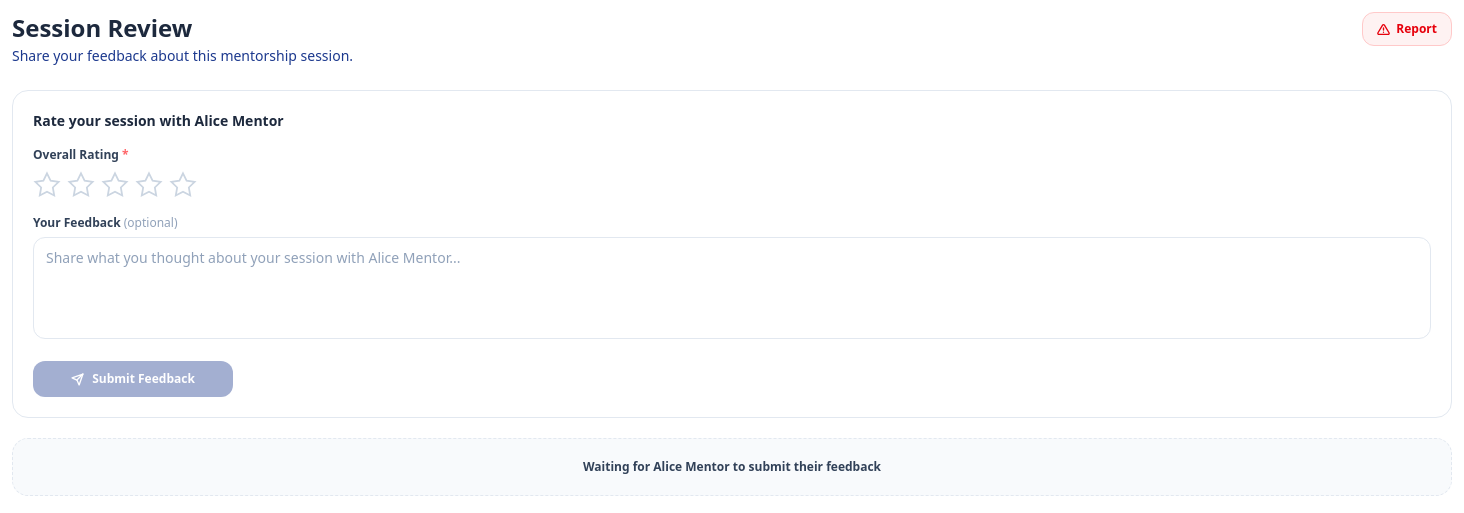
Test case: SharedReportTab Component Suite › Interactive Feedback Form Submissions › should submit user parameters cleanly and substitute elements with success banners
Click the 6th button. click: x=183, y=185
box: [169,171,197,199]
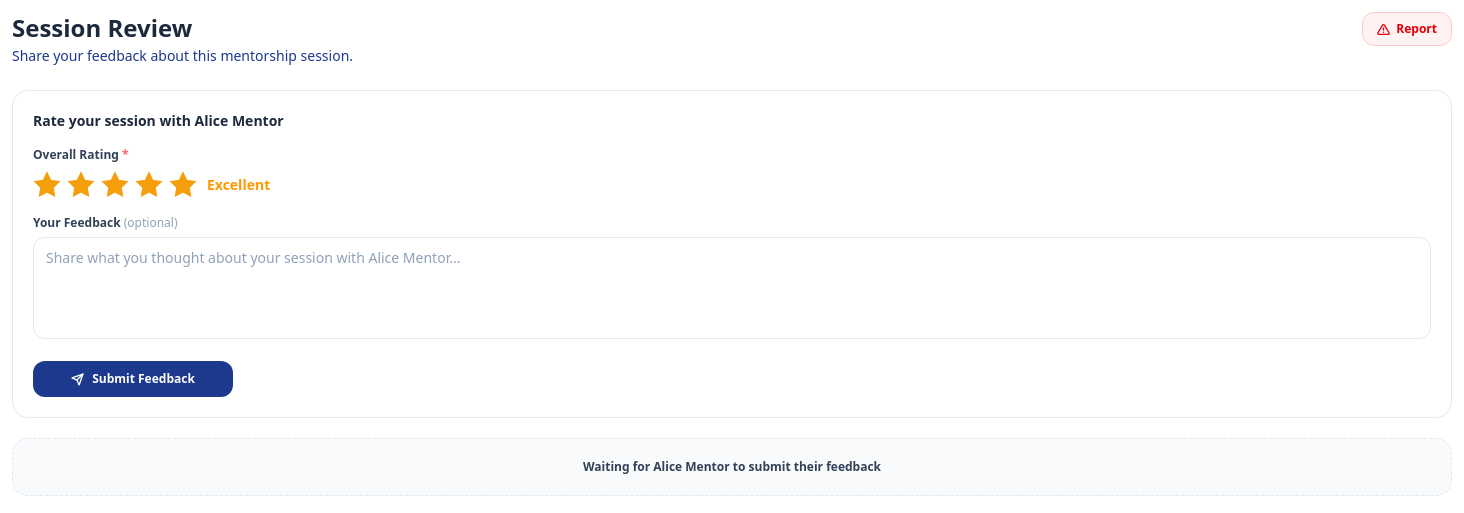
Replace the text in the text box with placeholder "Share what you thought" with "Exemplary guidance patterns!". click: x=732, y=288
box: [33,237,1431,339]
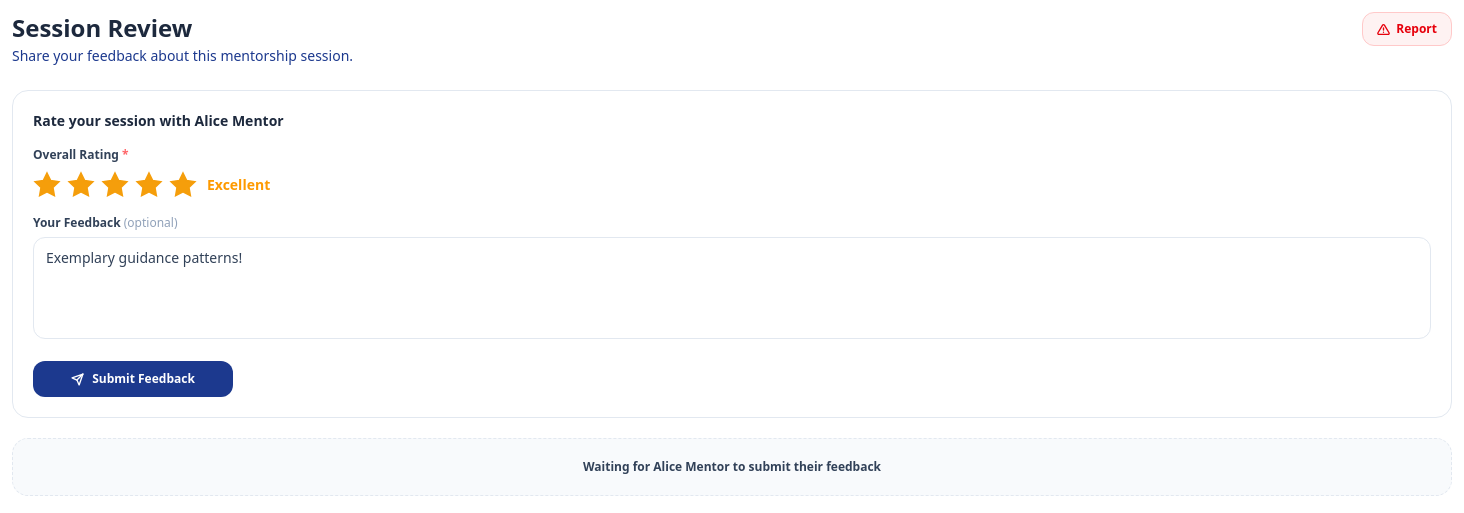
Click the button "Submit Feedback". click: x=133, y=379
box: [33,361,233,397]
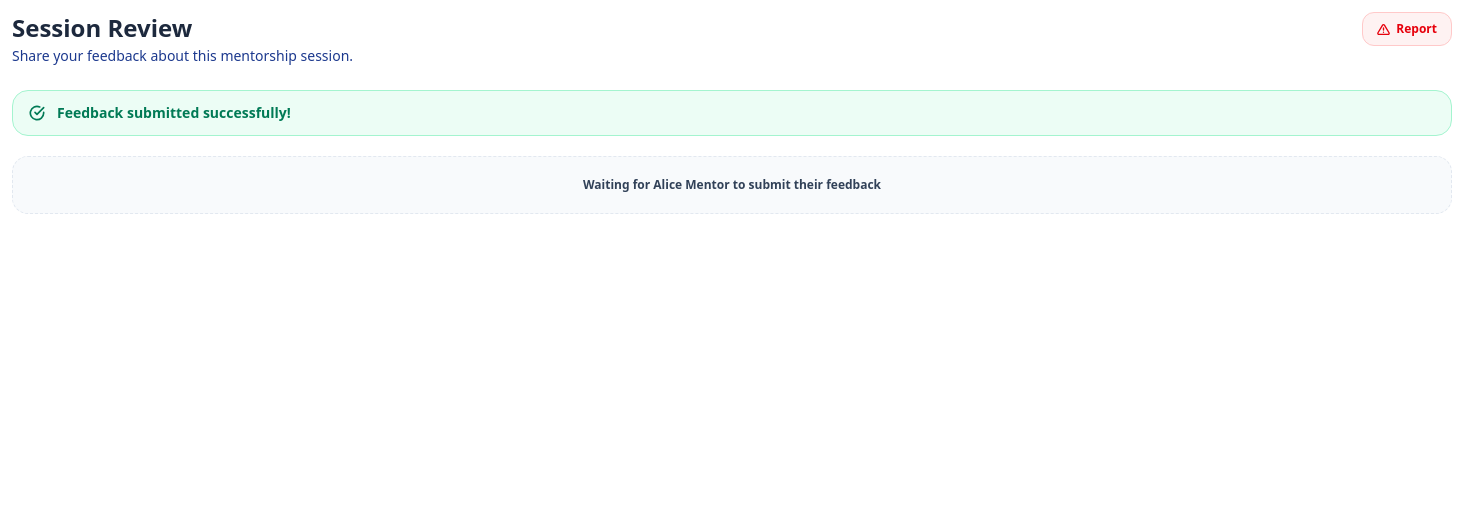
Expected: the text "Feedback submitted successfully!" is shown, [12,90,1452,136]
